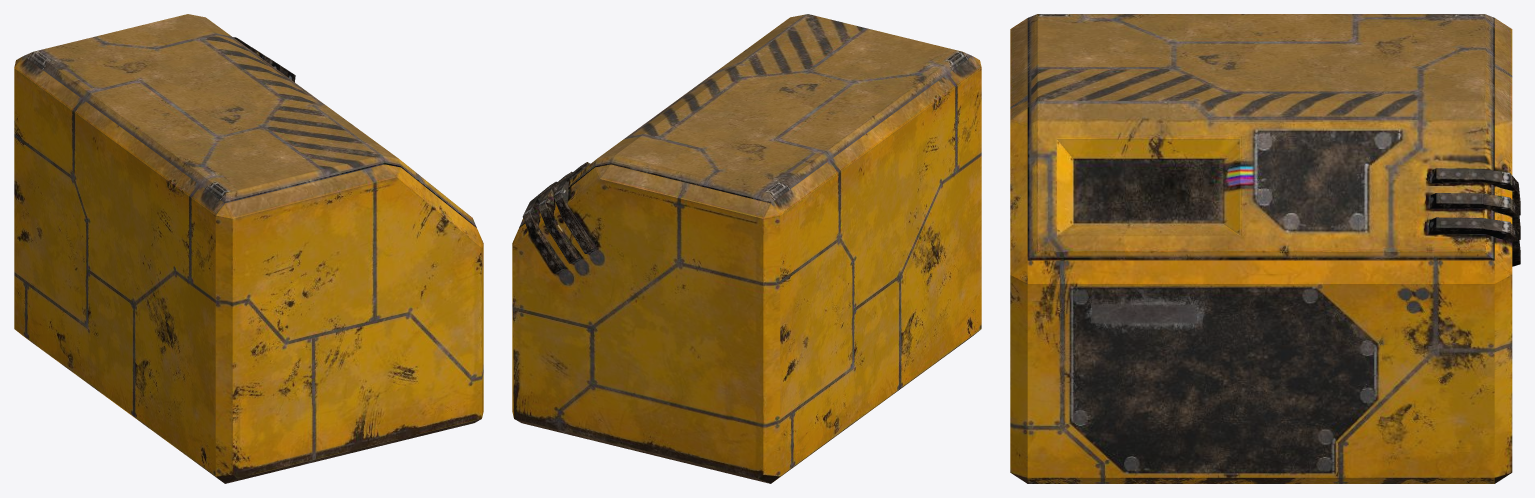
The model's file is crate_basic.glb.
The picture shows the model from 3 angles, left to right: view 1: azimuth 30°, elevation 25°; view 2: azimuth 150°, elevation 25°; view 3: azimuth 270°, elevation 25°; orthographic projection. The views are drawn at different scales.
Visible parts, largest first — view 1: crate_basic; view 2: crate_basic; view 3: crate_basic.
Boxes of the visible parts, x1=… form: crate_basic: x1=14, y1=14, x2=483, y2=483; crate_basic: x1=512, y1=14, x2=981, y2=483; crate_basic: x1=1010, y1=14, x2=1520, y2=483.
Size of the model in its own units: 0.9132 by 0.9327 by 1.3.
Materials: 1 (1 with a texture image).
